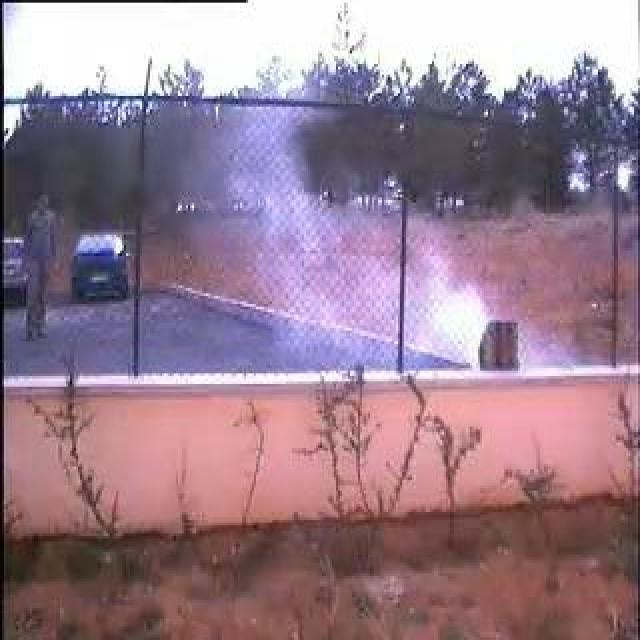Smoke: (245, 112, 485, 368)
